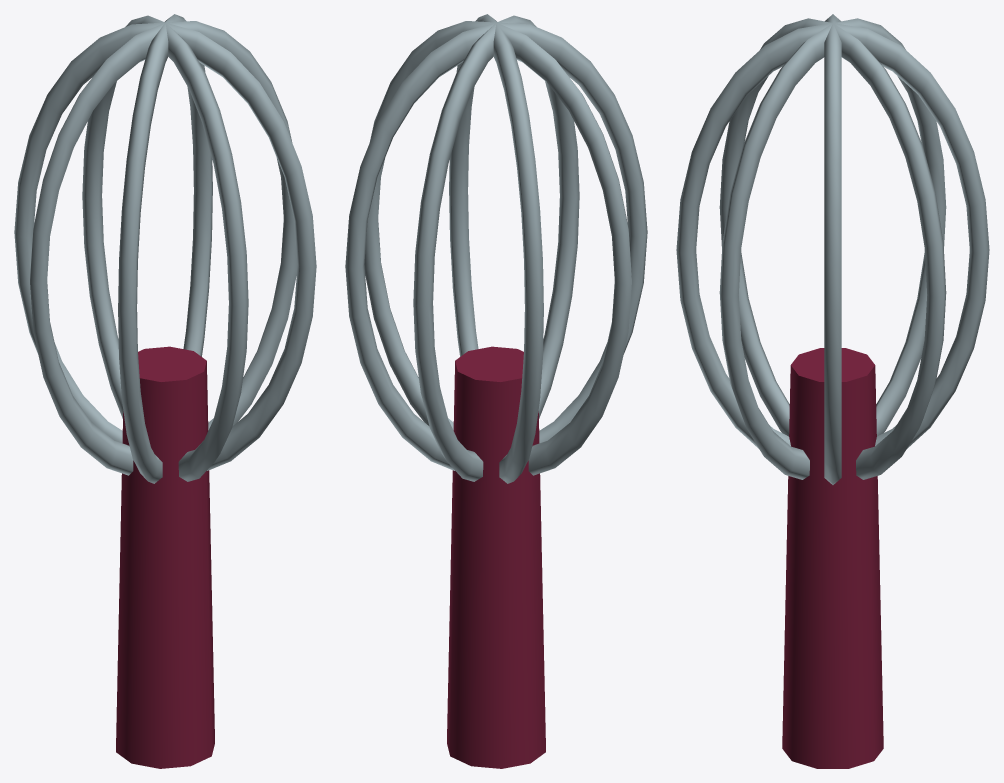
Rendered from whisk.glb.
The picture shows the model from 3 angles, left to right: view 1: azimuth 30°, elevation 25°; view 2: azimuth 150°, elevation 25°; view 3: azimuth 270°, elevation 25°; orthographic projection.
Parts seen in each view (by area): view 1: whisk; view 2: whisk; view 3: whisk.
Boxes of the visible parts, box(x1,y1,x2,y2) form: whisk: box(14, 14, 316, 768); whisk: box(345, 14, 647, 768); whisk: box(676, 14, 989, 768).
Bounding box in the file's own units: 0.111 × 0.2838 × 0.111.
